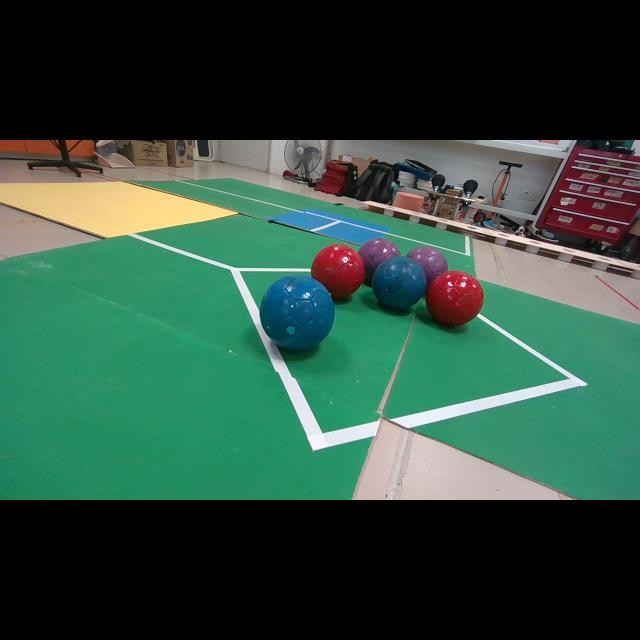B: (260, 275, 335, 350), (371, 258, 426, 310)
P: (359, 238, 401, 285), (406, 246, 448, 286)
R: (426, 270, 484, 326), (311, 244, 365, 300)
